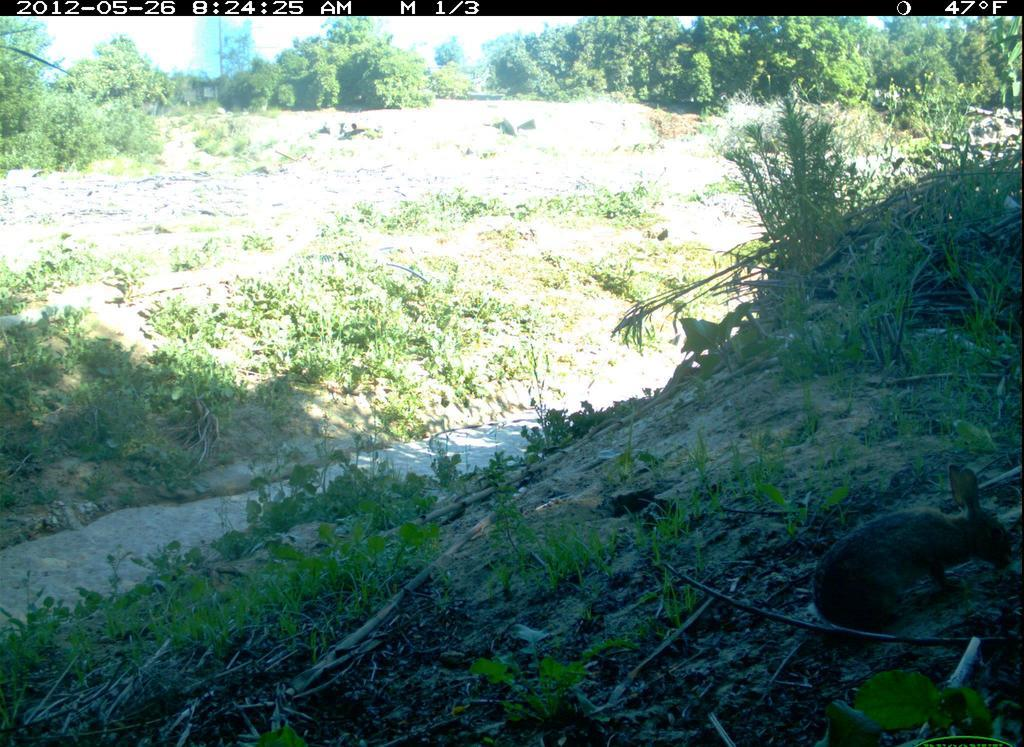rabbit: (803, 459, 1017, 643)
